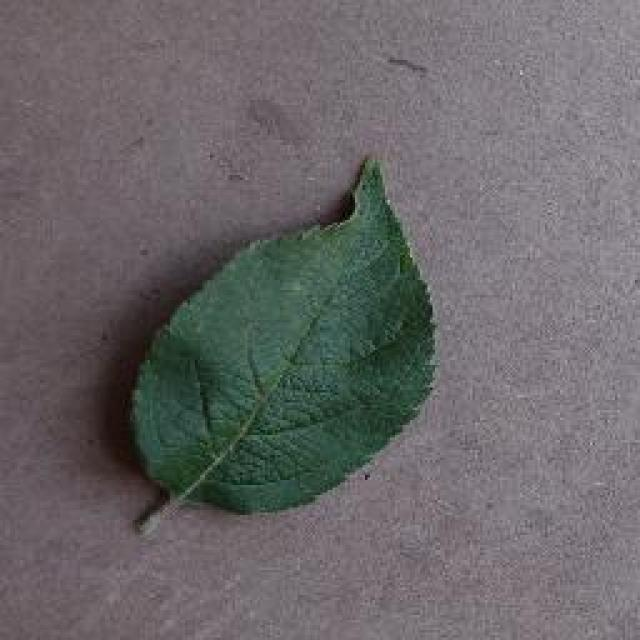apple healthy: (122, 153, 440, 535)
